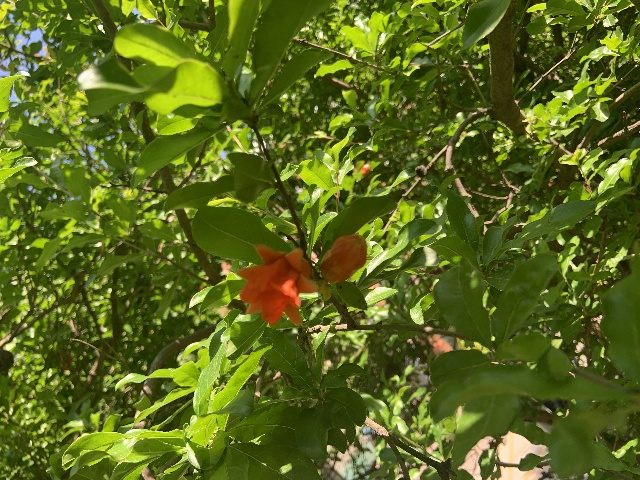bud: (320, 233, 366, 282), (359, 164, 370, 177)
flower: (235, 243, 316, 326)
